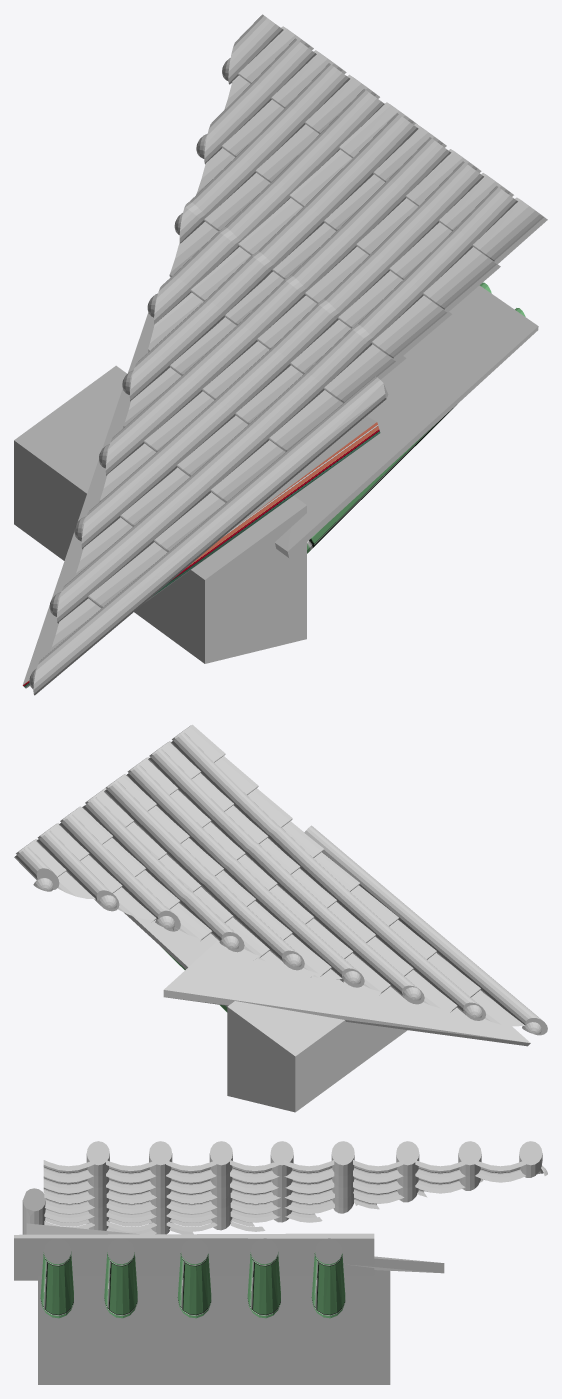
File: SM_R_RoofCornerCut_8.fbx
3 renders of one model, top to bottom at view 1: azimuth 30°, elevation 25°; view 2: azimuth 150°, elevation 25°; view 3: azimuth 270°, elevation 25°, orthographic. The views are drawn at different scales.
Parts seen in each view (by area): view 1: SM_R_RoofCornerCut_8_LOD0; view 2: SM_R_RoofCornerCut_8_LOD0; view 3: SM_R_RoofCornerCut_8_LOD0.
Boxes of the visible parts, x1,y1,x2,y2 form: SM_R_RoofCornerCut_8_LOD0: [14, 14, 547, 695]; SM_R_RoofCornerCut_8_LOD0: [14, 724, 547, 1112]; SM_R_RoofCornerCut_8_LOD0: [14, 1141, 547, 1384].
Bounding box in the file's own units: 330 × 312 × 222.
